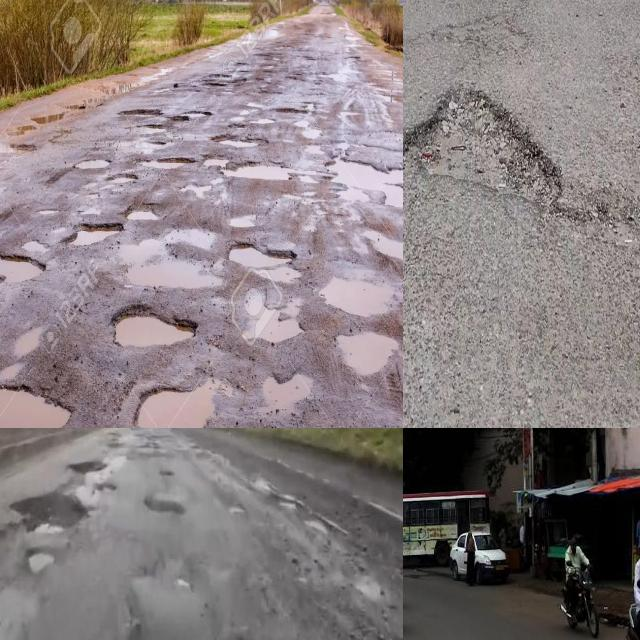Pothole: (403, 82, 563, 214), (10, 492, 87, 531), (128, 258, 222, 289), (138, 393, 213, 428), (20, 499, 84, 539), (323, 279, 392, 316), (0, 392, 70, 428), (339, 334, 397, 377), (116, 317, 191, 347), (334, 162, 403, 190), (231, 249, 291, 280), (0, 260, 41, 282), (29, 547, 54, 580), (354, 576, 384, 601), (143, 496, 184, 514), (69, 460, 107, 472), (250, 478, 276, 495), (304, 521, 327, 534), (279, 501, 296, 511), (96, 482, 117, 490), (176, 578, 190, 587), (144, 442, 162, 449), (229, 507, 246, 514), (159, 470, 174, 476), (298, 577, 307, 583)
